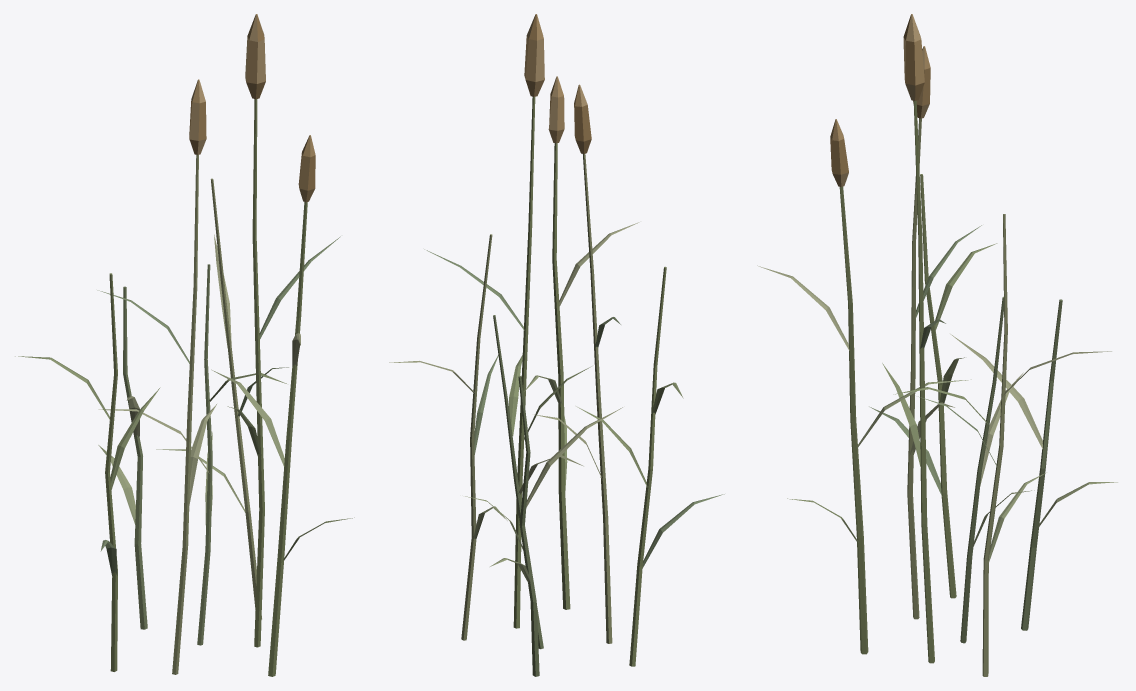
File: shore-reed.glb
3 renders of one model, left to right at view 1: azimuth 30°, elevation 25°; view 2: azimuth 150°, elevation 25°; view 3: azimuth 270°, elevation 25°, orthographic. The views are drawn at different scales.
Bounding box in the file's own units: 0.5436 × 1.1 × 0.568.
